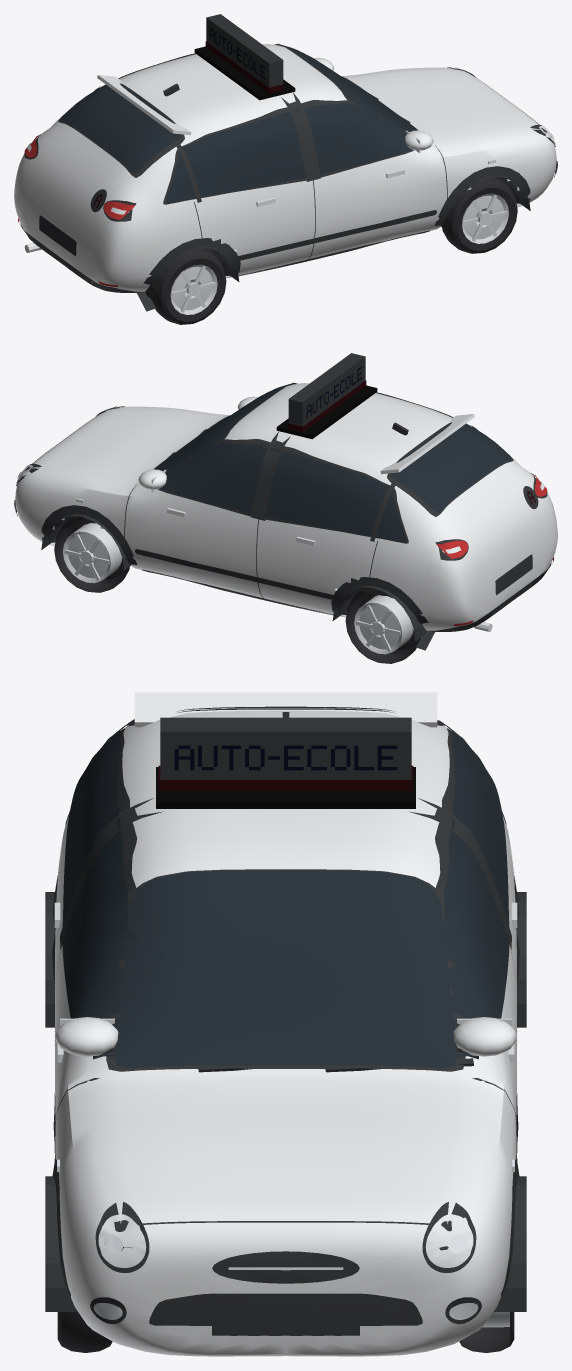
Rendered from auto_ecole.glb.
The picture shows the model from 3 angles, top to bottom: view 1: azimuth 30°, elevation 25°; view 2: azimuth 150°, elevation 25°; view 3: azimuth 270°, elevation 25°; orthographic projection. The views are drawn at different scales.
Parts seen in each view (by area): view 1: Body, Glass-1, RearGlass, WheelFR, WheelRR, AeSign, Windshield, ArchTrim-1.001, WinFrame-1, ArchTrim-1, Bpillar-1, AeBase (+11 smaller); view 2: Body, Glass1, RearGlass, WheelFL, WheelRL, AeSign, Windshield, ArchTrim1.001, WinFrame1, ArchTrim1, Bpillar1, AeBase (+11 smaller); view 3: Body, Windshield, AeSign, Glass1, Glass-1, Intake, Spoiler, AeBase, Grille, HeadReflector, AeBand, WsFrame (+15 smaller).
Boxes of the visible parts, x1,y1,x2,y2 form: Body: (14, 44, 556, 291); Glass-1: (166, 103, 412, 203); RearGlass: (60, 83, 181, 173); WheelFR: (442, 177, 517, 253); WheelRR: (151, 248, 226, 324); AeSign: (206, 14, 283, 87); Windshield: (276, 43, 417, 132); ArchTrim-1.001: (136, 238, 240, 311); WinFrame-1: (163, 100, 413, 204); ArchTrim-1: (434, 166, 530, 225); Bpillar-1: (281, 92, 320, 181); AeBase: (194, 46, 295, 100); Body: (15, 383, 557, 630); Glass1: (159, 442, 405, 542); RearGlass: (390, 422, 511, 512); WheelFL: (54, 516, 129, 592); WheelRL: (345, 587, 420, 663); AeSign: (288, 353, 365, 426); Windshield: (154, 382, 295, 471); ArchTrim1.001: (331, 577, 435, 650); WinFrame1: (158, 439, 408, 543); ArchTrim1: (41, 505, 137, 564); Bpillar1: (251, 431, 290, 520); AeBase: (276, 385, 377, 439); Body: (55, 710, 516, 1356); Windshield: (114, 870, 457, 1067); AeSign: (160, 717, 411, 779); Glass1: (393, 731, 508, 1057); Glass-1: (63, 731, 168, 1057); Intake: (149, 1293, 422, 1325); Spoiler: (134, 692, 437, 727); AeBase: (156, 767, 415, 808); Grille: (212, 1251, 359, 1283); HeadReflector: (98, 1214, 473, 1267); AeBand: (158, 765, 413, 791); WsFrame: (106, 869, 465, 1071).
Bounding box in the file's own units: 3.89 × 1.78 × 1.76.
